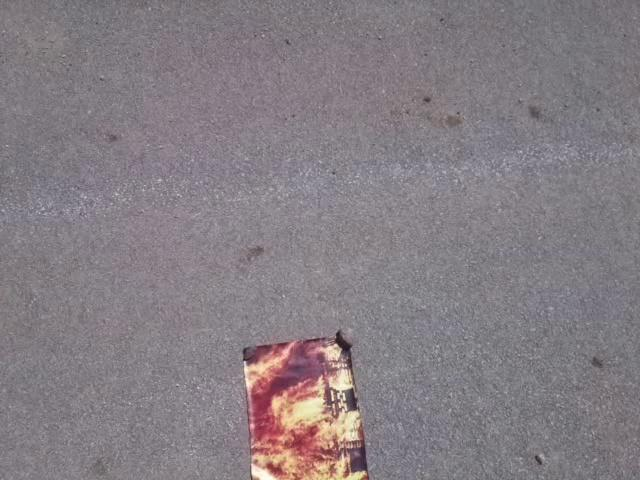fire-poster: (240, 327, 372, 479)
